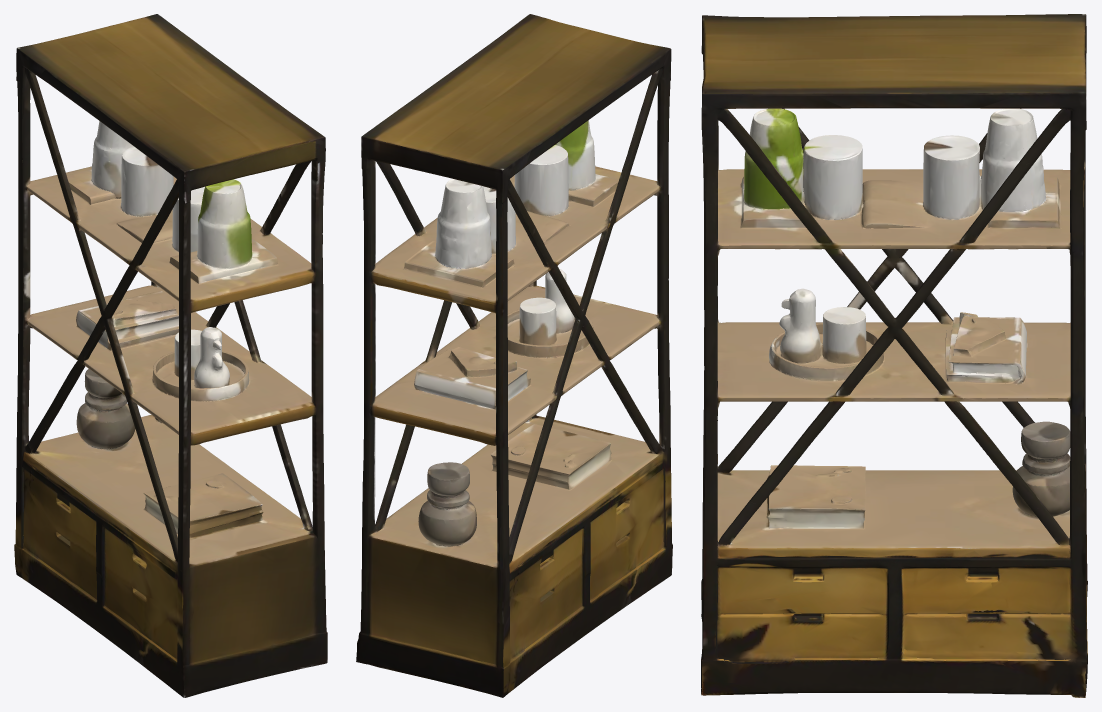
File: Estanteria.glb
The picture shows the model from 3 angles, left to right: view 1: azimuth 30°, elevation 25°; view 2: azimuth 150°, elevation 25°; view 3: azimuth 270°, elevation 25°; orthographic projection. The views are drawn at different scales.
Parts seen in each view (by area): view 1: model; view 2: model; view 3: model.
Part boxes in pixels (x1=…): model: x1=14, y1=14, x2=327, y2=697; model: x1=356, y1=14, x2=672, y2=697; model: x1=701, y1=14, x2=1087, y2=697.
Size of the model in its own units: 0.5615 by 1.9 by 1.11.
Materials: 1 (1 with a texture image).
